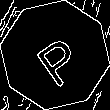P_NW: (26, 24, 84, 86)
